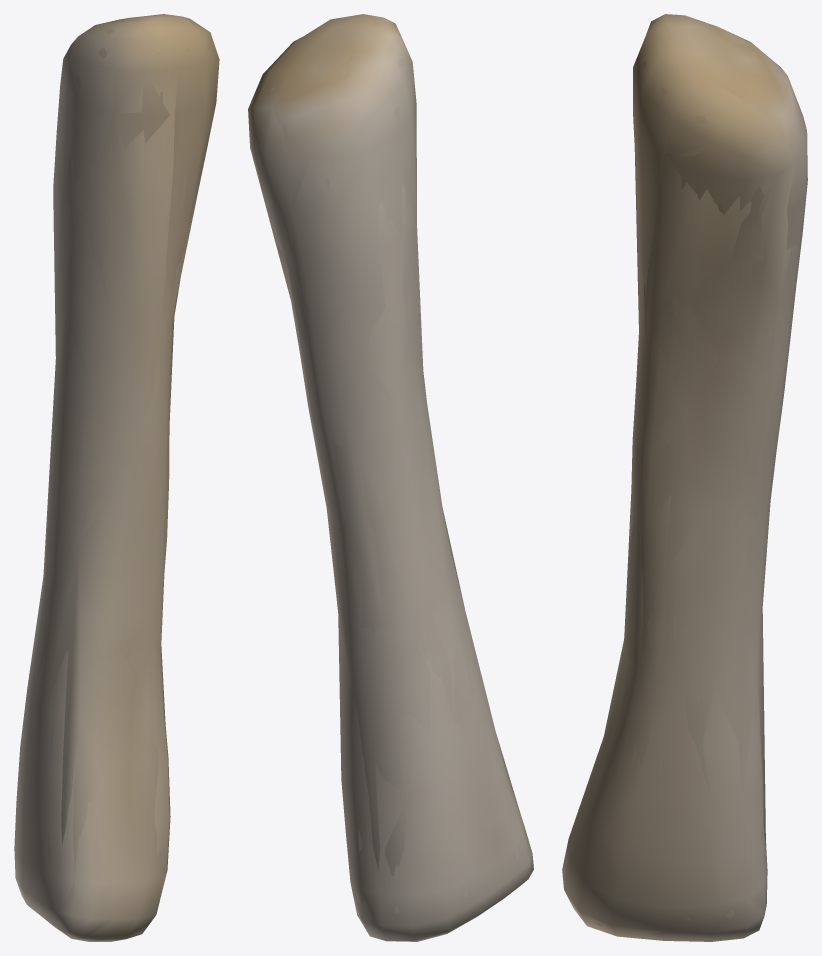
The model's file is R metatarsi quintum.fbx.
3 views of the same model, side by side, from view 1: azimuth 30°, elevation 25°; view 2: azimuth 150°, elevation 25°; view 3: azimuth 270°, elevation 25° (orthographic). The views are drawn at different scales.
Visible parts, largest first — view 1: R metatarsi quintum low, R metatarsi quintum, R metatarsi quintum high; view 2: R metatarsi quintum, R metatarsi quintum low, R metatarsi quintum high; view 3: R metatarsi quintum, R metatarsi quintum low, R metatarsi quintum high.
Part boxes in pixels (x1,y1,x2,y2): R metatarsi quintum low: (18, 19, 218, 938); R metatarsi quintum: (14, 14, 219, 941); R metatarsi quintum high: (18, 21, 212, 940); R metatarsi quintum: (248, 14, 533, 941); R metatarsi quintum low: (248, 21, 533, 941); R metatarsi quintum high: (260, 41, 527, 941); R metatarsi quintum: (562, 14, 807, 941); R metatarsi quintum low: (562, 16, 807, 936); R metatarsi quintum high: (576, 38, 804, 926).
Size of the model in its own units: 1.15 by 4.66 by 1.1.
